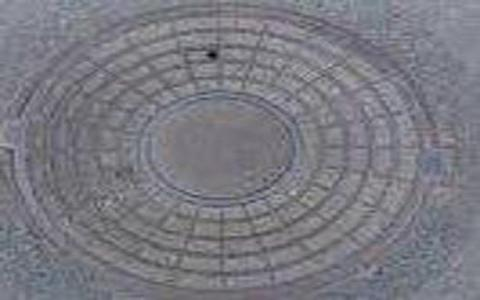proper manhole: (11, 2, 433, 295)
